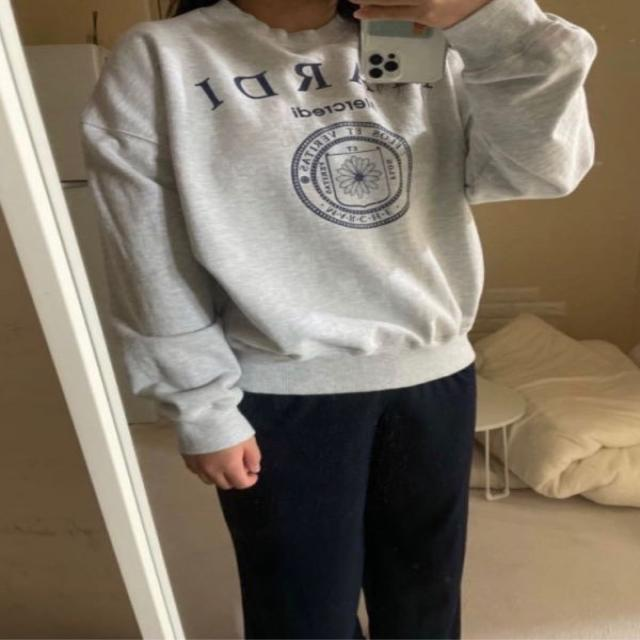mtm: (73, 1, 604, 404)
slacks: (208, 354, 473, 640)
